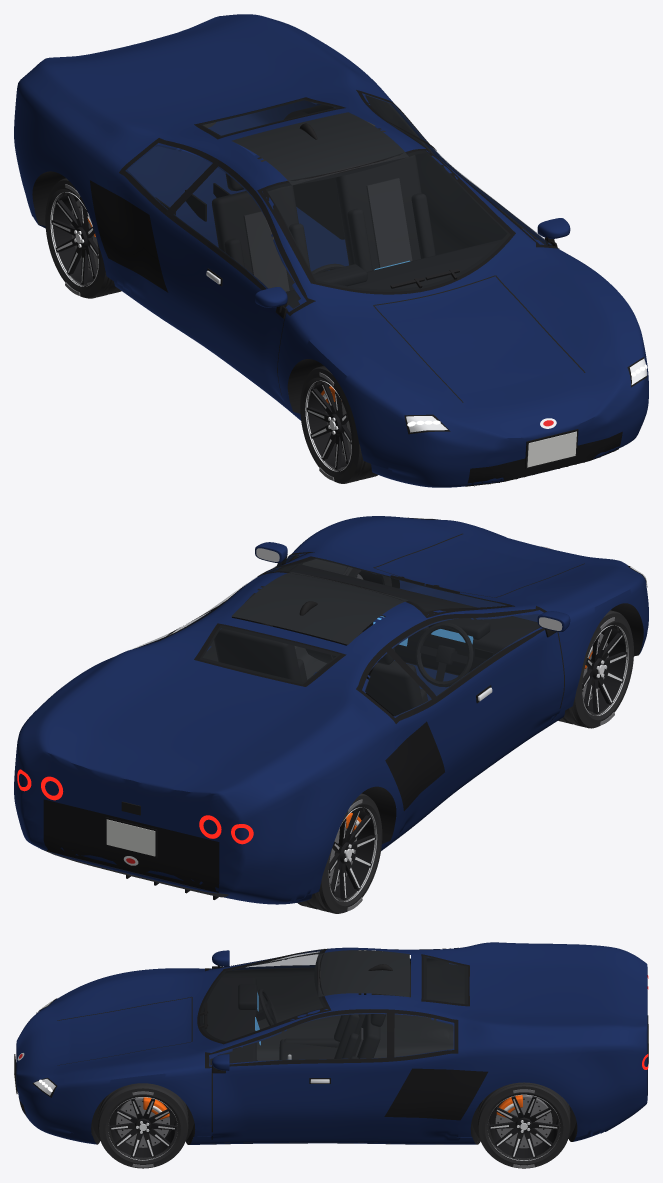
Rendered from gemera.glb.
3 views of the same model, one above another, from view 1: azimuth 30°, elevation 25°; view 2: azimuth 150°, elevation 25°; view 3: azimuth 270°, elevation 25° (orthographic). The views are drawn at different scales.
Visible parts, largest first — view 1: Body, Wheel_FR, Wheel_RR; view 2: Body, Wheel_RR, Wheel_FR; view 3: Body, Wheel_RL, Wheel_FL.
Boxes of the visible parts, x1,y1,x2,y2 form: Body: [14, 14, 648, 487]; Wheel_FR: [300, 366, 377, 483]; Wheel_RR: [45, 178, 121, 298]; Body: [14, 516, 648, 904]; Wheel_RR: [297, 793, 382, 913]; Wheel_FR: [558, 610, 633, 728]; Body: [14, 942, 648, 1144]; Wheel_RL: [477, 1082, 570, 1168]; Wheel_FL: [98, 1083, 188, 1168].
Size of the model in its own units: 2.12 by 1.35 by 5.
